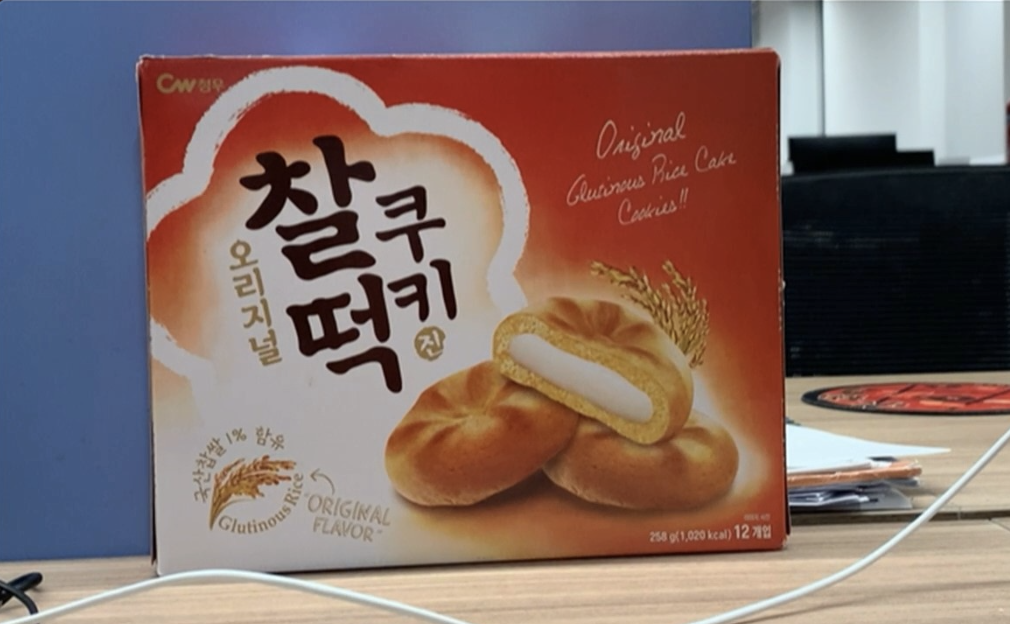cookies_200g-299g: (181, 78, 776, 550)
